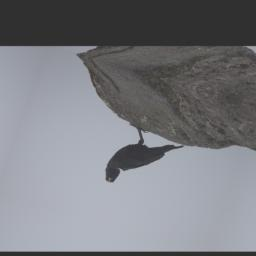Crow: (100, 121, 187, 200)
